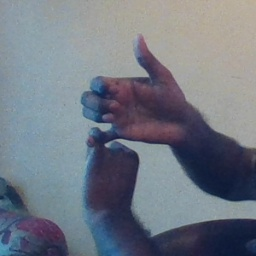S: (73, 29, 186, 187)
